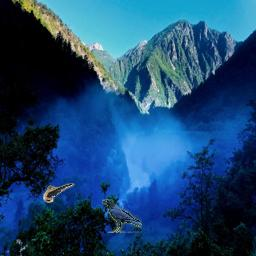Crow: (102, 199, 142, 233)
Swallow: (43, 183, 75, 203)
